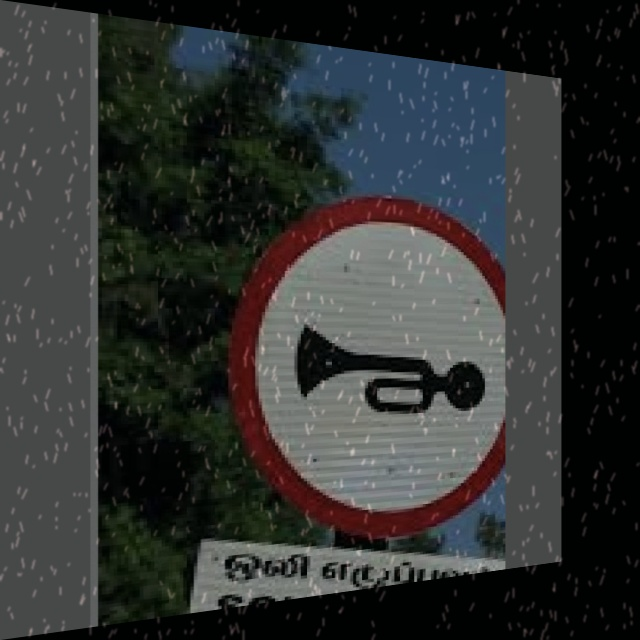Compulsory_Sound_Horn: (246, 195, 499, 510)
